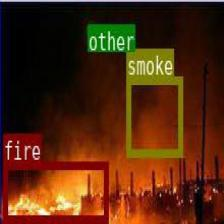fire: (2, 161, 107, 221)
smoke: (126, 74, 182, 155)
